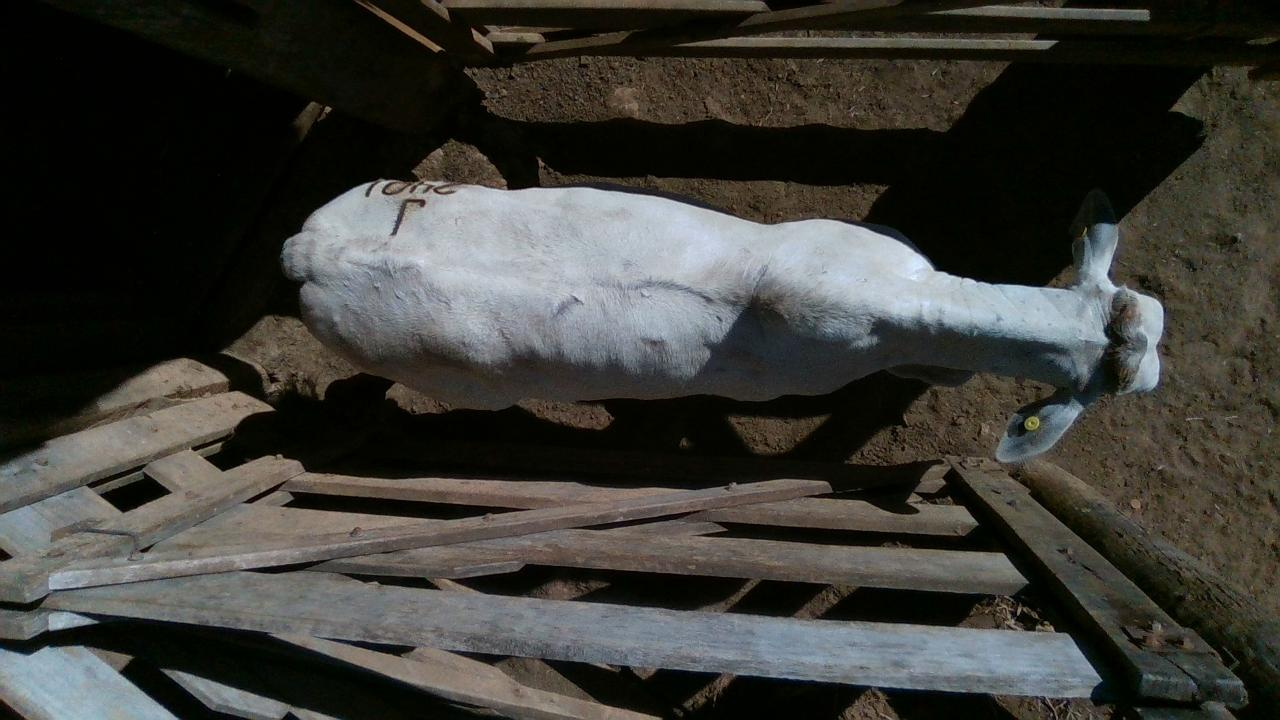cattle: (278, 175, 1165, 464)
